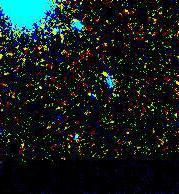star: (87, 59, 117, 89)
